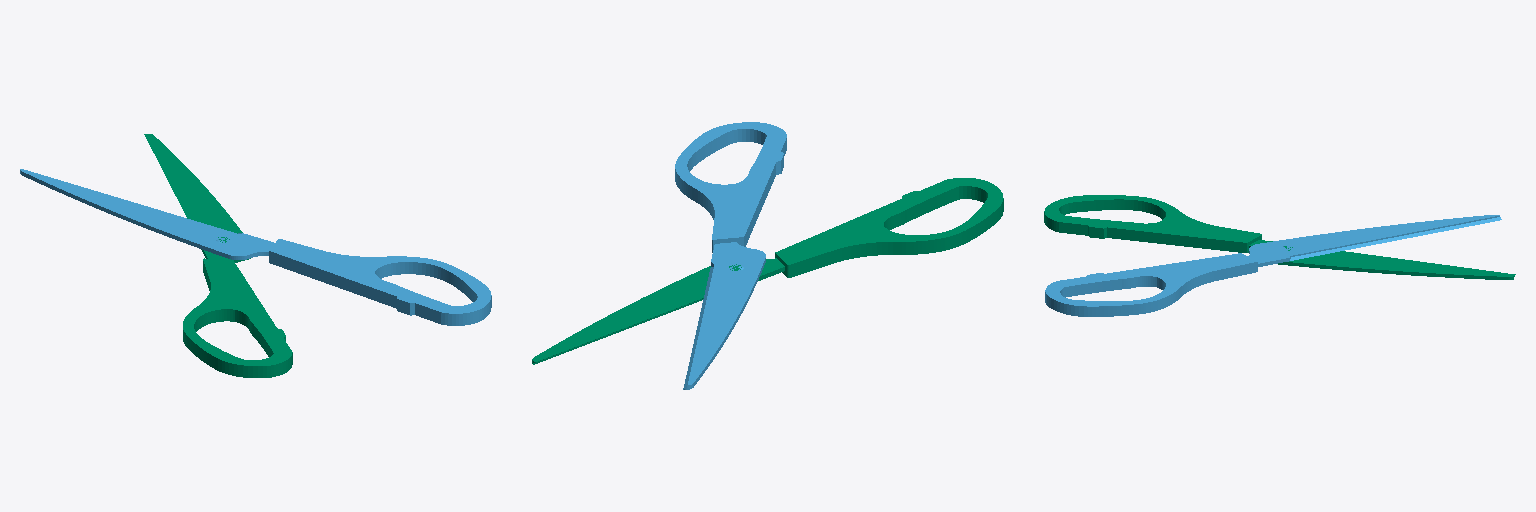
The robot description file, URDF, robot "partnet_3bba19a52cbe211cb458c00230942e4e":
<?xml version="1.0" ?>
<robot name="partnet_3bba19a52cbe211cb458c00230942e4e">
	<link name="base"/>
	<link name="link_0">
		<visual name="blade-6">
			<origin xyz="0.0698251662 0 -0.0034203225936"/>
			<geometry>
				<mesh filename="textured_objs/new-1.obj" scale="0.3 0.3 0.3"/>
			</geometry>
		</visual>
		<visual name="handle-7">
			<origin xyz="0.0698251662 0 -0.0034203225936"/>
			<geometry>
				<mesh filename="textured_objs/original-6.obj" scale="0.3 0.3 0.3"/>
			</geometry>
		</visual>
		<collision>
			<origin xyz="0.0698251662 0 -0.0034203225936"/>
			<geometry>
				<mesh filename="textured_objs/new-1.obj" scale="0.3 0.3 0.3"/>
			</geometry>
		</collision>
		<collision>
			<origin xyz="0.0698251662 0 -0.0034203225936"/>
			<geometry>
				<mesh filename="textured_objs/original-6.obj" scale="0.3 0.3 0.3"/>
			</geometry>
		</collision>
	</link>
	<joint name="joint_0" type="revolute">
		<!-- <origin xyz="-0.23275055403563558 0 0.011401075312618584"/> -->
		<origin xyz="-0.0698251662 0 0.0034203225936"/>
		<axis xyz="0 1 0"/>
		<child link="link_0"/>
		<parent link="link_1"/>
		<limit lower="-0.5969026041820605" upper="0.4"/>
	</joint>
	<link name="link_1">
		<visual name="screw-3">
			<origin xyz="0 0 0"/>
			<geometry>
				<mesh filename="textured_objs/new-0.obj" scale="0.3 0.3 0.3"/>
			</geometry>
		</visual>
		<visual name="screw-3">
			<origin xyz="0 0 0"/>
			<geometry>
				<mesh filename="textured_objs/new-2.obj" scale="0.3 0.3 0.3"/>
			</geometry>
		</visual>
		<visual name="blade-4">
			<origin xyz="0 0 0"/>
			<geometry>
				<mesh filename="textured_objs/new-3.obj" scale="0.3 0.3 0.3"/>
			</geometry>
		</visual>
		<visual name="handle-5">
			<origin xyz="0 0 0"/>
			<geometry>
				<mesh filename="textured_objs/original-3.obj" scale="0.3 0.3 0.3"/>
			</geometry>
		</visual>
		<collision>
			<origin xyz="0 0 0"/>
			<geometry>
				<mesh filename="textured_objs/new-0.obj" scale="0.3 0.3 0.3"/>
			</geometry>
		</collision>
		<collision>
			<origin xyz="0 0 0"/>
			<geometry>
				<mesh filename="textured_objs/new-2.obj" scale="0.3 0.3 0.3"/>
			</geometry>
		</collision>
		<collision>
			<origin xyz="0 0 0"/>
			<geometry>
				<mesh filename="textured_objs/new-3.obj" scale="0.3 0.3 0.3"/>
			</geometry>
		</collision>
		<collision>
			<origin xyz="0 0 0"/>
			<geometry>
				<mesh filename="textured_objs/original-3.obj" scale="0.3 0.3 0.3"/>
			</geometry>
		</collision>
	</link>
	<joint name="joint_1" type="fixed">
		<origin rpy="1.570796326794897 0 -1.570796326794897" xyz="0 0 0"/>
		<child link="link_1"/>
		<parent link="base"/>
	</joint>
</robot>

--- Render facts (derived) ---
Views: 3 orthographic renders of the robot side by side, from view 1: azimuth 30°, elevation 25°; view 2: azimuth 150°, elevation 25°; view 3: azimuth 270°, elevation 25°.
Model partnet_3bba19a52cbe211cb458c00230942e4e with 3 links and 2 joints (1 revolute, 1 fixed), rooted at base, posed all joints at 0.
Links seen in each view (by area): view 1: link_0, link_1; view 2: link_1, link_0; view 3: link_0, link_1.
Link boxes in pixels (box(x1,y1,x2,y2)): link_0: box(20, 169, 491, 325); link_1: box(144, 134, 292, 377); link_1: box(532, 178, 1003, 364); link_0: box(675, 122, 786, 389); link_0: box(1045, 215, 1501, 316); link_1: box(1044, 195, 1515, 279).
Size in the robot's own frame: 0.2789 by 0.4827 by 0.0158 metres.
Meshes: 6 distinct files referenced, 5 mesh visuals loaded (5 OBJ); not drawn: 1 (reference not matched to a file when rendering).